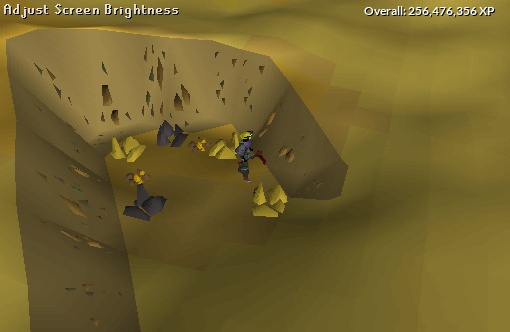depleted: (118, 181, 174, 228), (154, 116, 191, 151)
gold: (239, 177, 310, 225), (102, 129, 152, 165)
